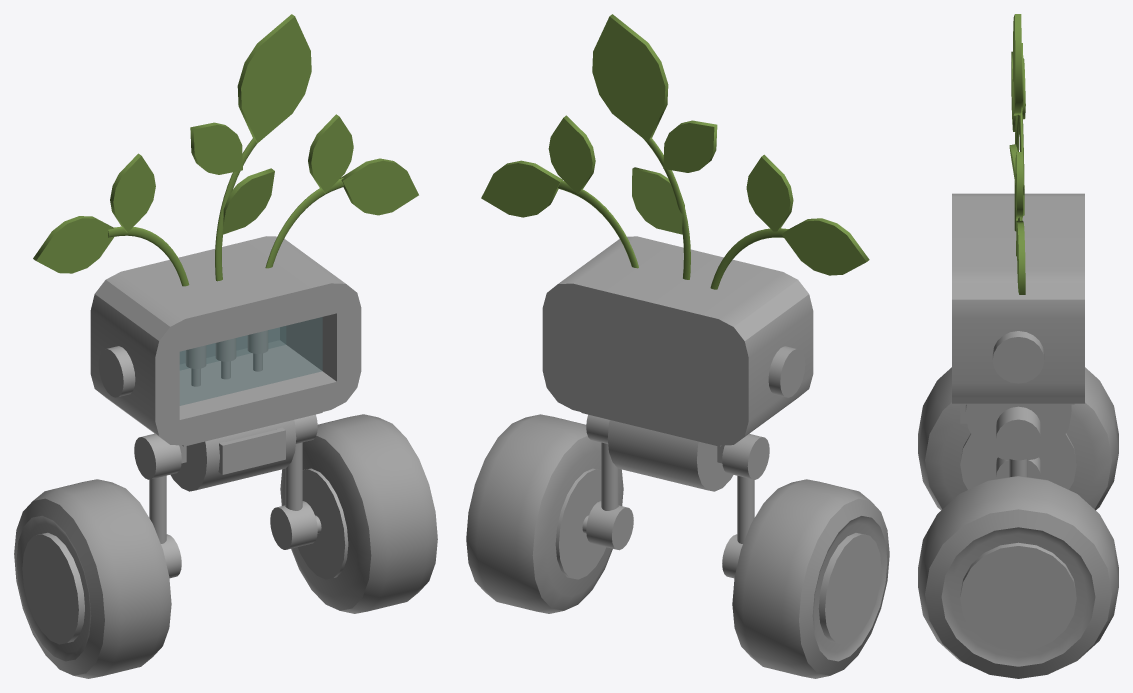
Rendered from plantbuddy v1.fbx.
3 renders of one model, left to right at view 1: azimuth 30°, elevation 25°; view 2: azimuth 150°, elevation 25°; view 3: azimuth 270°, elevation 25°, orthographic. The views are drawn at different scales.
Visible parts, largest first — view 1: plantbuddy1_pCylinder16; view 2: plantbuddy1_pCylinder16; view 3: plantbuddy1_pCylinder16.
Boxes of the visible parts, x1,y1,x2,y2 form: plantbuddy1_pCylinder16: (14,14,437,678); plantbuddy1_pCylinder16: (466,14,889,678); plantbuddy1_pCylinder16: (918,14,1118,678).
Size of the model in its own units: 9.5 by 14.25 by 4.18.
